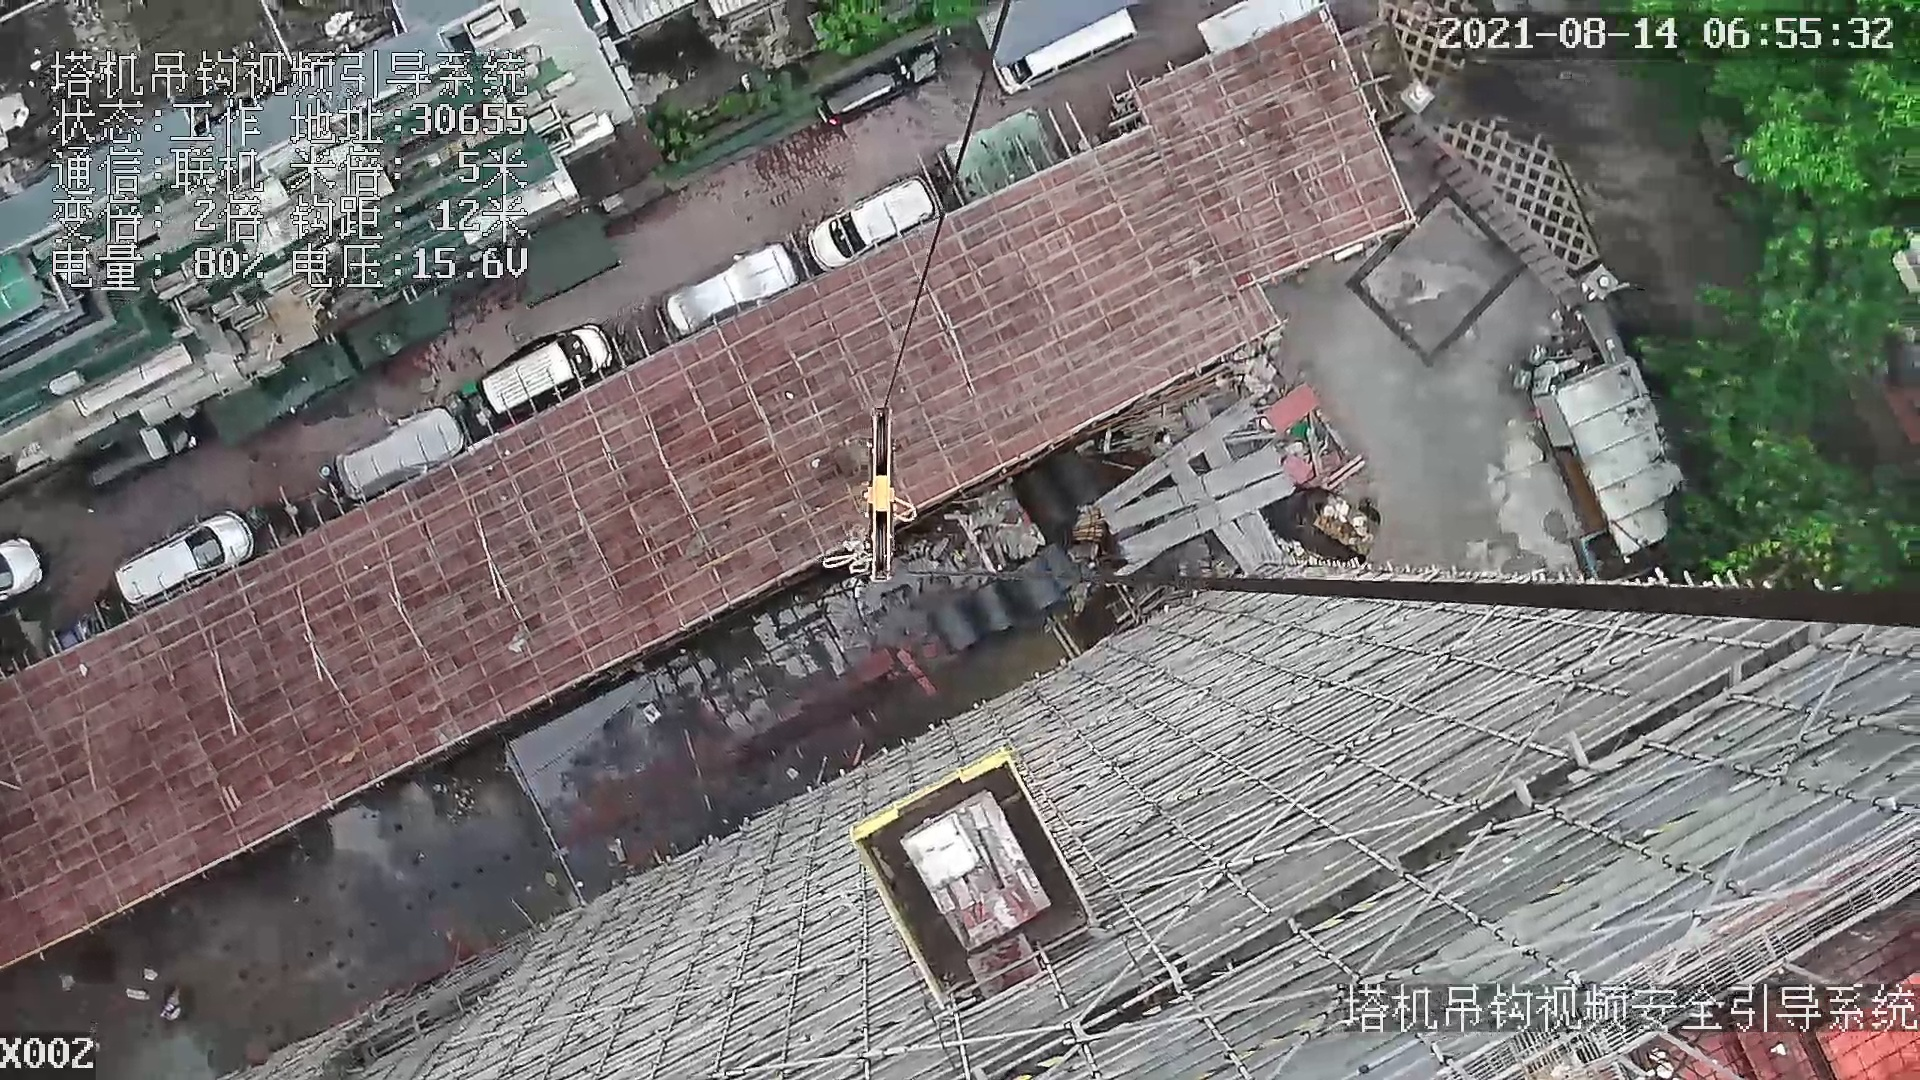board: (905, 793, 1052, 951)
hook: (866, 396, 920, 578)
rebar: (1095, 400, 1258, 517), (1106, 442, 1283, 533), (1120, 473, 1294, 564), (1212, 521, 1265, 574), (1238, 510, 1284, 564)
